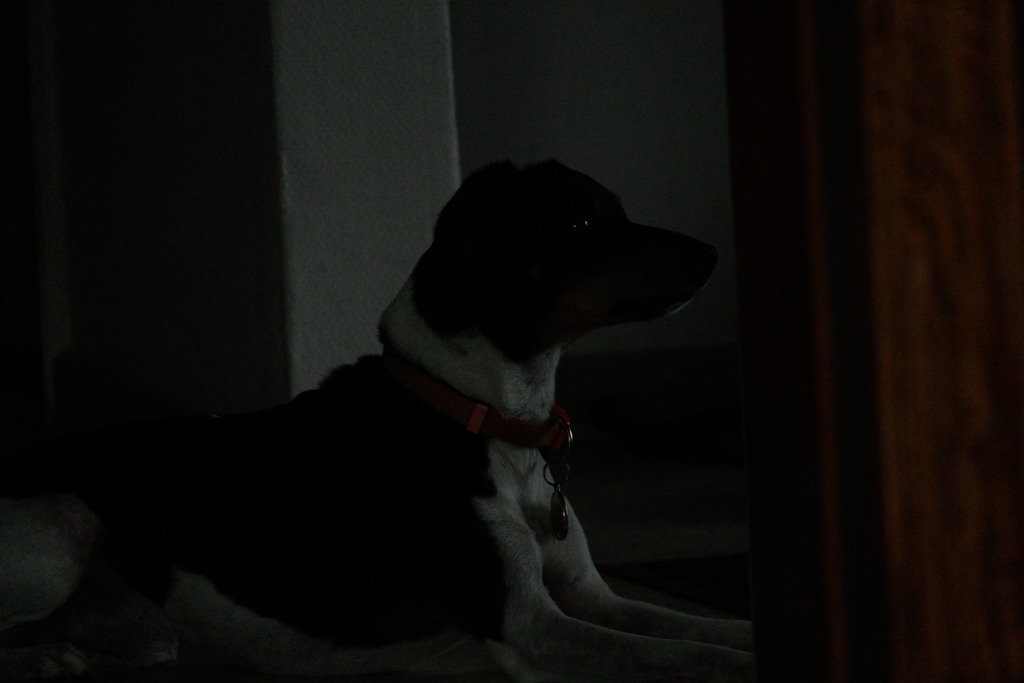Dog: (0, 146, 767, 683)
